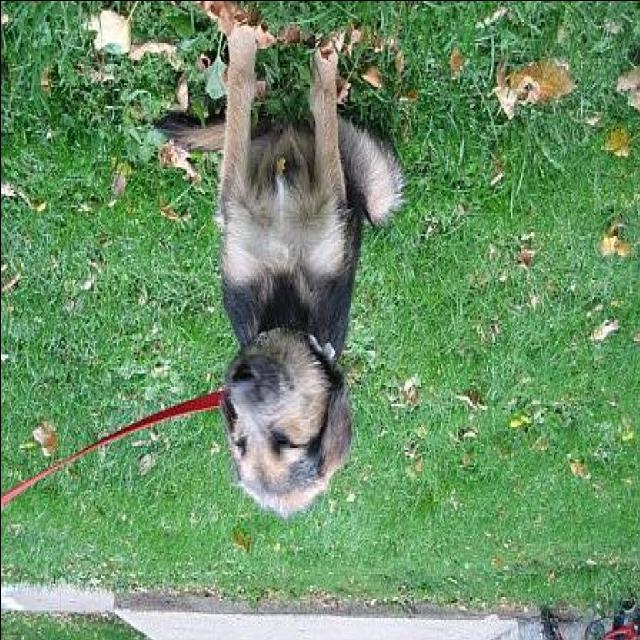dog: (134, 0, 414, 534)
